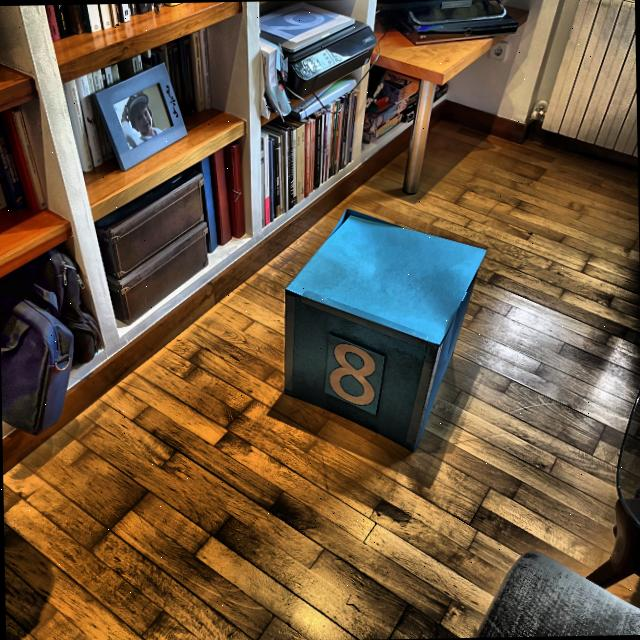blue box: (282, 210, 483, 456)
eight: (328, 340, 378, 408)
